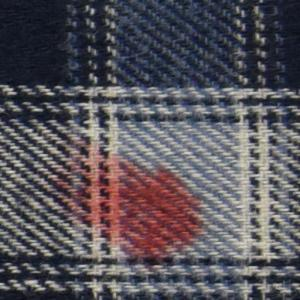Stain: (45, 131, 211, 275)
